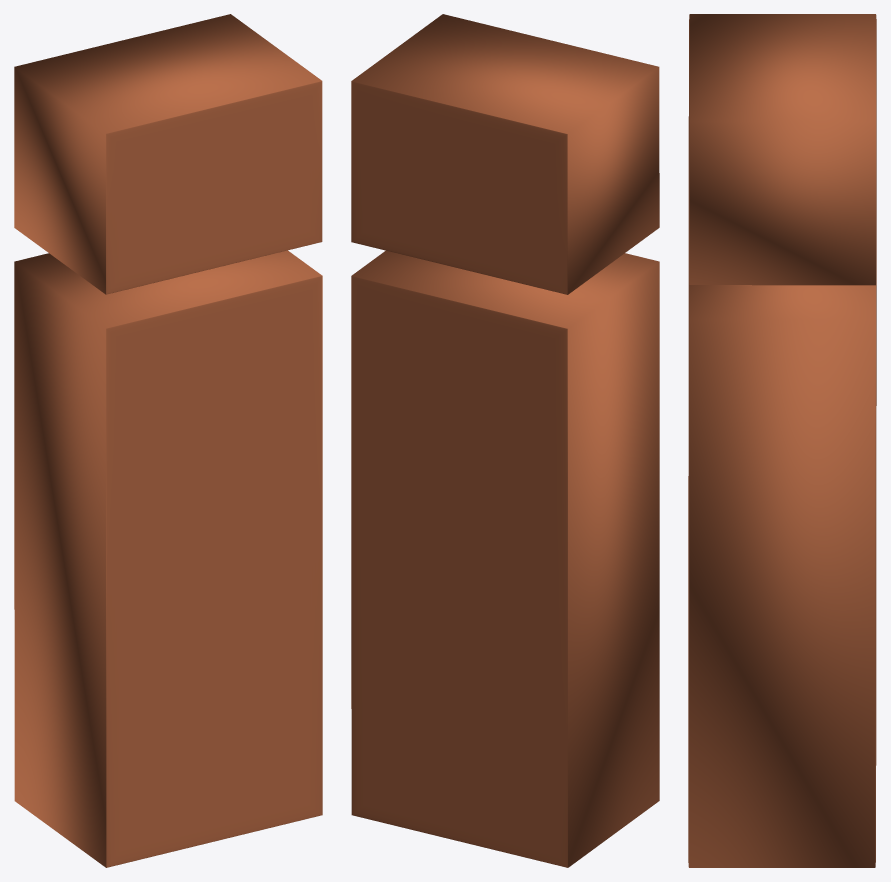
The model's file is vocal_i.glb.
The picture shows the model from 3 angles, left to right: view 1: azimuth 30°, elevation 25°; view 2: azimuth 150°, elevation 25°; view 3: azimuth 270°, elevation 25°; orthographic projection.
Visible parts, largest first — view 1: Text; view 2: Text; view 3: Text.
Part boxes in pixels (left/top/right/bottom): Text: left=14, top=14, right=322, bottom=867; Text: left=351, top=14, right=659, bottom=867; Text: left=688, top=14, right=876, bottom=867.
Size of the model in its own units: 0.1609 by 0.5214 by 0.1193.
